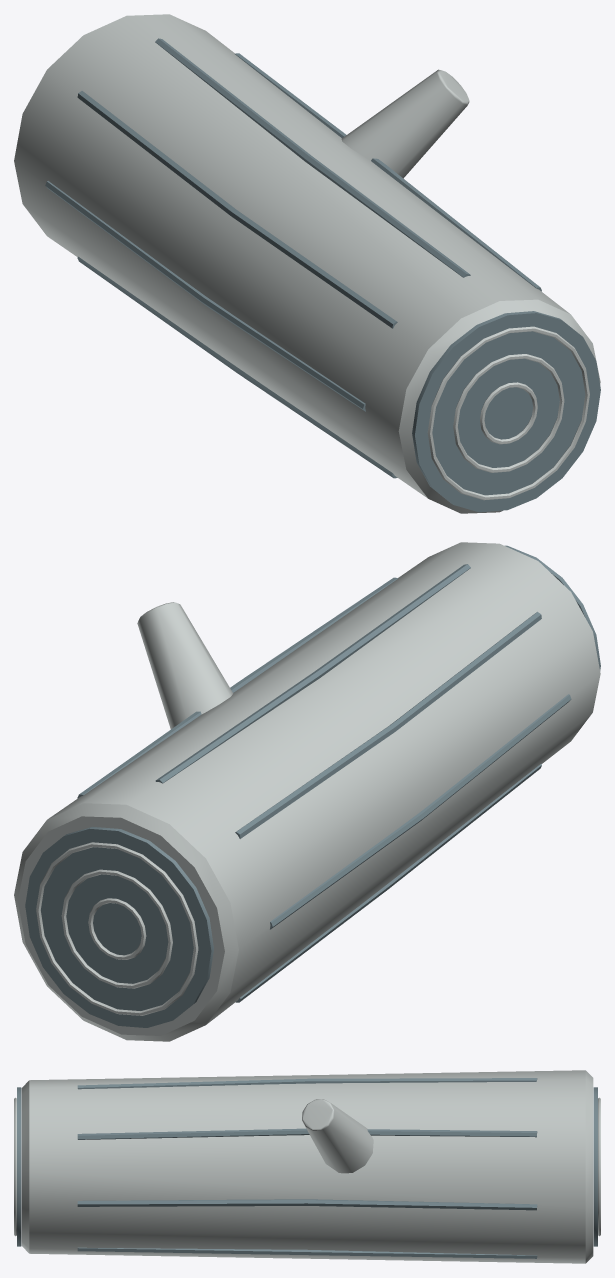
The model's file is log.glb.
3 views of the same model, one above another, from view 1: azimuth 30°, elevation 25°; view 2: azimuth 150°, elevation 25°; view 3: azimuth 270°, elevation 25° (orthographic). The views are drawn at different scales.
Visible parts, largest first — view 1: log_trunk, cut_end.001, branch_stub, bark_ridge.003, bark_ridge.002, bark_ridge.004, growth_ring.005, bark_ridge.001, bark_ridge.005, growth_ring.004, growth_ring.003; view 2: log_trunk, cut_end, branch_stub, bark_ridge.003, bark_ridge.002, bark_ridge.004, growth_ring.002, growth_ring.001, bark_ridge.001, bark_ridge.005, growth_ring; view 3: log_trunk, branch_stub, bark_ridge, bark_ridge.001, bark_ridge.007, bark_ridge.002, cut_end, cut_end.001, growth_ring.002, growth_ring.005.
Boxes of the visible parts, bbox=[...] form: log_trunk: bbox=[14, 14, 600, 513]; cut_end.001: bbox=[412, 311, 600, 512]; branch_stub: bbox=[341, 69, 469, 178]; bark_ridge.003: bbox=[77, 91, 397, 328]; bark_ridge.002: bbox=[155, 38, 470, 277]; bark_ridge.004: bbox=[45, 181, 365, 411]; growth_ring.005: bbox=[427, 326, 589, 500]; bark_ridge.001: bbox=[235, 53, 541, 291]; bark_ridge.005: bbox=[77, 256, 397, 478]; growth_ring.004: bbox=[453, 354, 564, 472]; growth_ring.003: bbox=[480, 382, 537, 444]; log_trunk: bbox=[14, 542, 600, 1041]; cut_end: bbox=[25, 826, 213, 1027]; branch_stub: bbox=[137, 602, 233, 729]; bark_ridge.003: bbox=[235, 612, 541, 838]; bark_ridge.002: bbox=[155, 564, 470, 783]; bark_ridge.004: bbox=[270, 694, 571, 929]; growth_ring.002: bbox=[36, 842, 198, 1015]; growth_ring.001: bbox=[61, 869, 172, 988]; bark_ridge.001: bbox=[77, 577, 397, 798]; bark_ridge.005: bbox=[236, 764, 541, 1002]; growth_ring: bbox=[88, 898, 146, 959]; log_trunk: bbox=[21, 1070, 593, 1263]; branch_stub: bbox=[302, 1099, 373, 1173]; bark_ridge: bbox=[77, 1199, 537, 1210]; bark_ridge.001: bbox=[77, 1128, 537, 1139]; bark_ridge.007: bbox=[77, 1247, 537, 1258]; bark_ridge.002: bbox=[77, 1078, 537, 1089]; cut_end: bbox=[593, 1087, 597, 1246]; cut_end.001: bbox=[17, 1087, 21, 1246]; growth_ring.002: bbox=[598, 1097, 600, 1236]; growth_ring.005: bbox=[14, 1097, 16, 1236].
Size of the model in its own units: 0.4662 by 0.4445 by 1.15.
